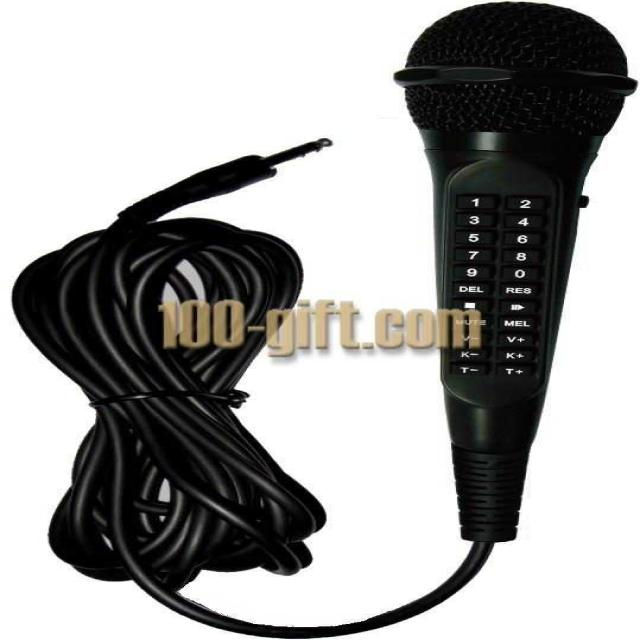microphone: (392, 0, 638, 518)
